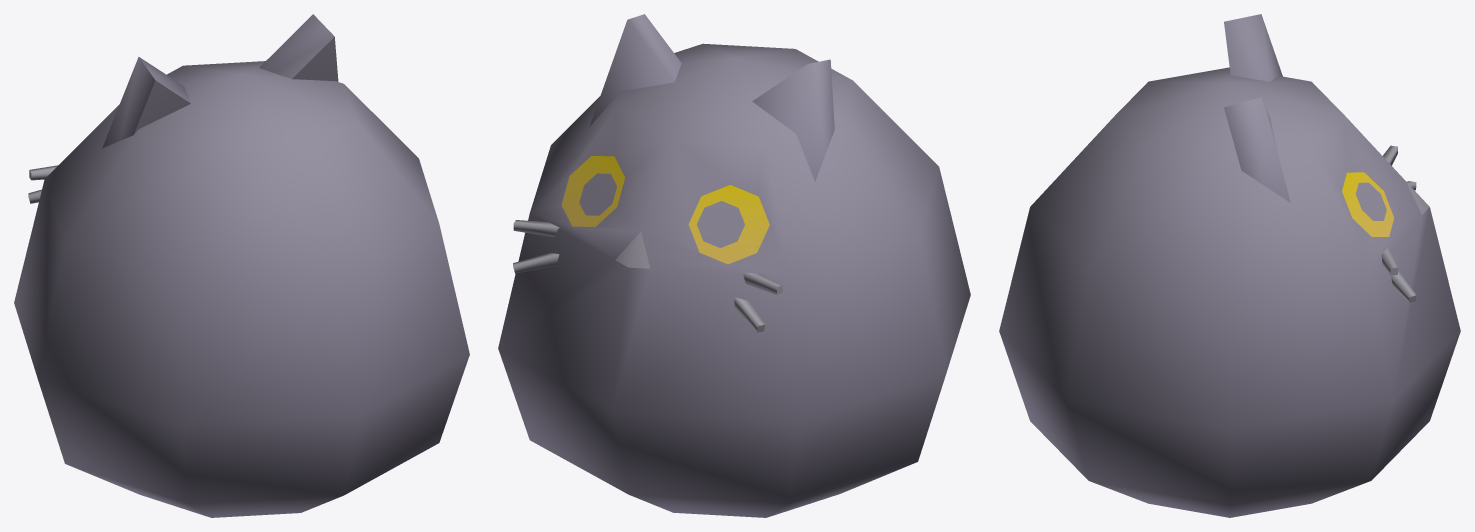
File: plush-cat_0.glb
3 views of the same model, side by side, from view 1: azimuth 30°, elevation 25°; view 2: azimuth 150°, elevation 25°; view 3: azimuth 270°, elevation 25° (orthographic). The views are drawn at different scales.
Visible parts, largest first — view 1: plush-cat; view 2: plush-cat; view 3: plush-cat.
Part boxes in pixels (x1=…): plush-cat: x1=14, y1=14, x2=469, y2=517; plush-cat: x1=498, y1=14, x2=970, y2=517; plush-cat: x1=999, y1=14, x2=1460, y2=517.
Bounding box in the file's own units: 0.7 × 0.7212 × 0.7.
